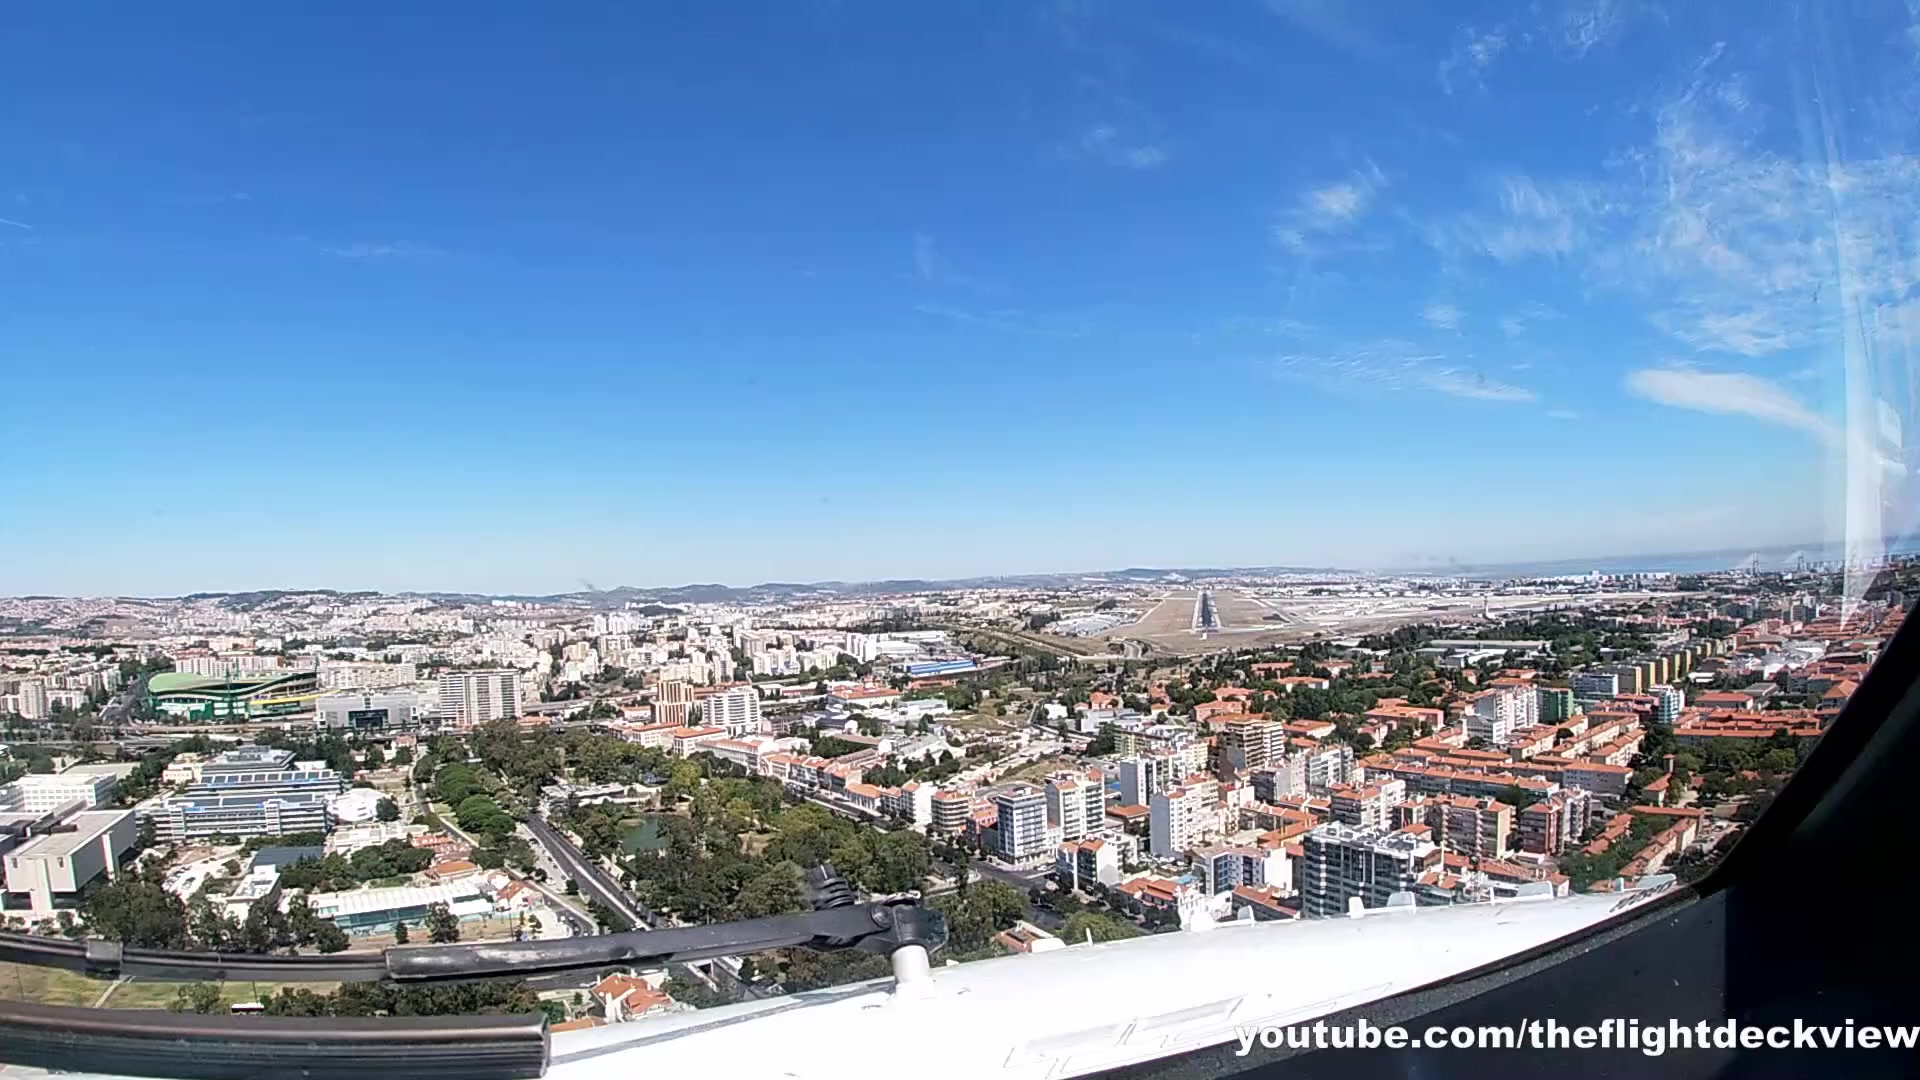runway: (1191, 593, 1224, 638)
